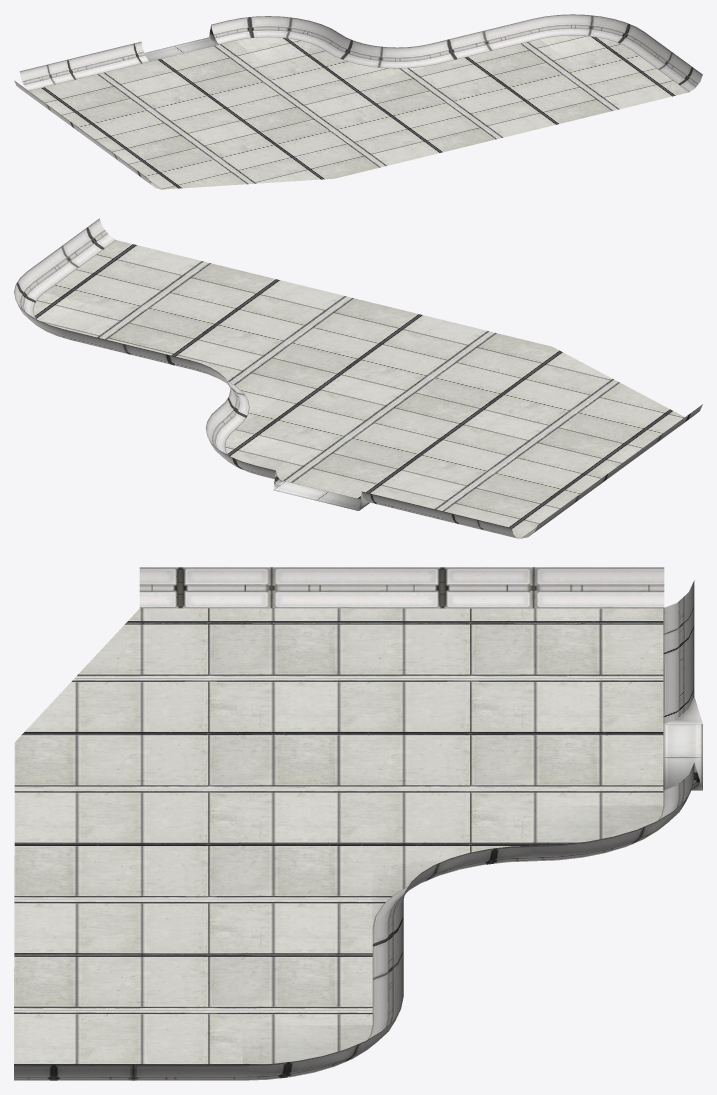
The model's file is STA20_officeb02_floor.FBX.
The picture shows the model from 3 angles, top to bottom: view 1: azimuth 30°, elevation 25°; view 2: azimuth 150°, elevation 25°; view 3: azimuth 270°, elevation 25°; orthographic projection. The views are drawn at different scales.
Parts seen in each view (by area): view 1: STA20_officeb02_floor; view 2: STA20_officeb02_floor; view 3: STA20_officeb02_floor.
Part boxes in pixels (<box>): STA20_officeb02_floor: <box>14,14,702,189</box>; STA20_officeb02_floor: <box>14,218,702,538</box>; STA20_officeb02_floor: <box>14,567,702,1080</box>.
Bounding box in the file's own units: 22.49 × 0.5937 × 13.16.
